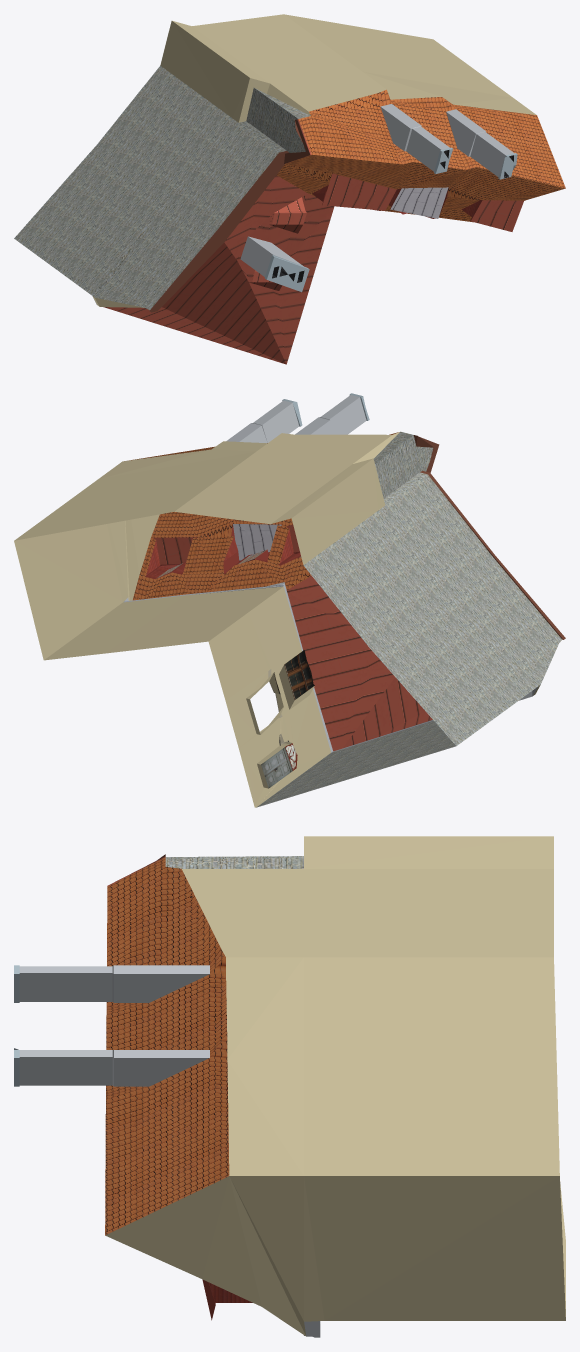
File: Ryytli_24_1-origo.obj
The picture shows the model from 3 angles, top to bottom: view 1: azimuth 30°, elevation 25°; view 2: azimuth 150°, elevation 25°; view 3: azimuth 270°, elevation 25°; orthographic projection. The views are drawn at different scales.
Parts seen in each view (by area): view 1: Ryytli_24_1; view 2: Ryytli_24_1; view 3: Ryytli_24_1.
Part boxes in pixels (box(x1,y1,x2,y2)): Ryytli_24_1: box(14, 14, 565, 364); Ryytli_24_1: box(14, 393, 565, 807); Ryytli_24_1: box(14, 836, 565, 1337).
Size of the model in its own units: 20.88 by 14 by 14.86.
